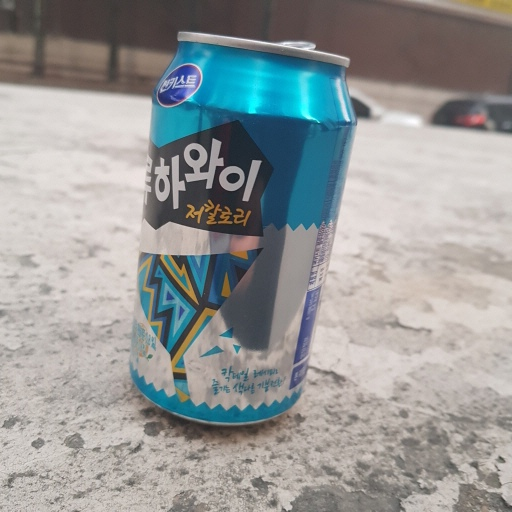Metal_0: (130, 29, 357, 427)
